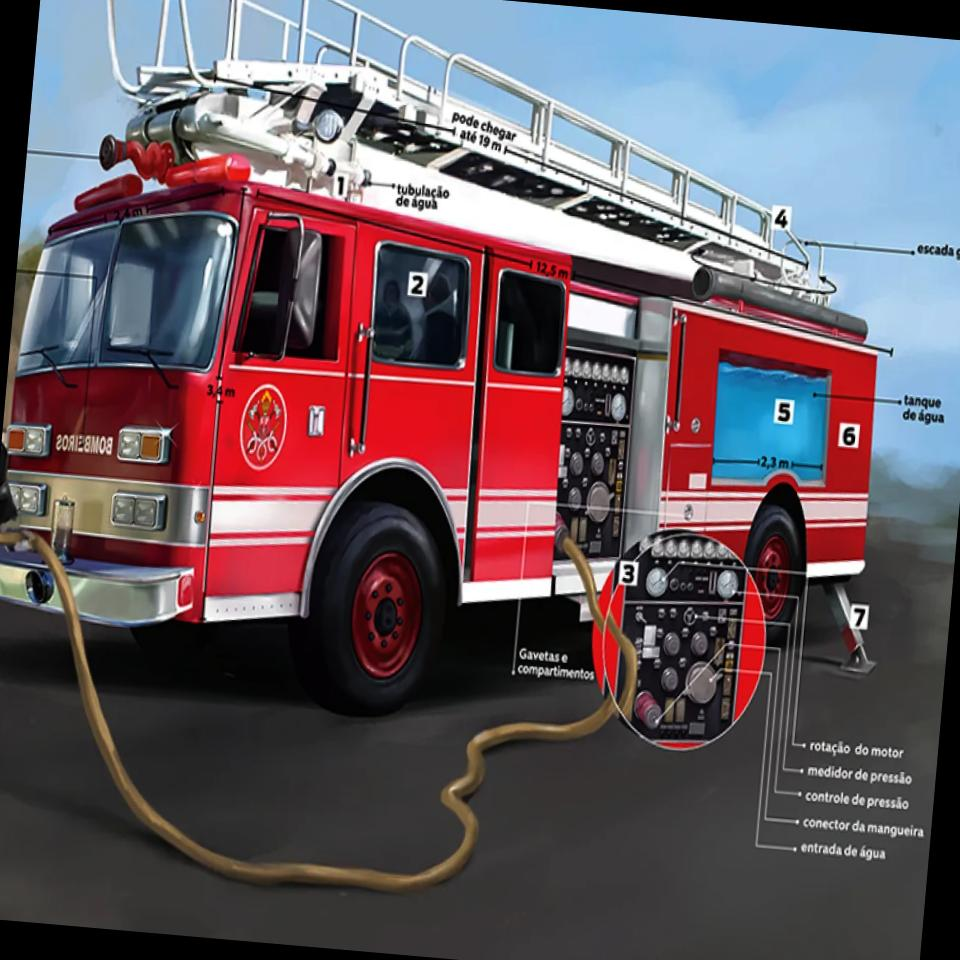viatura: (0, 0, 936, 762)
